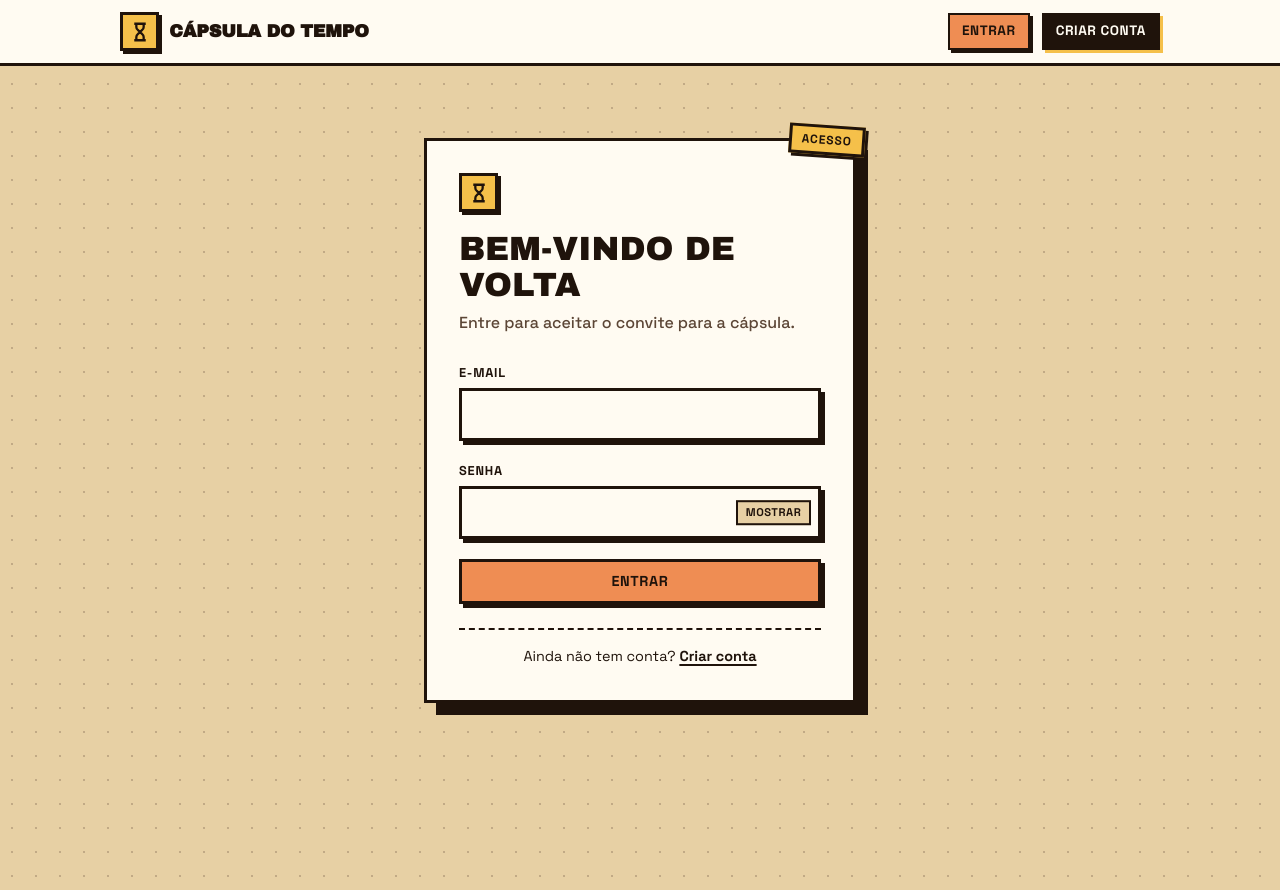
Test: ConvitePage (/convite/:token) › without a session › goes back to the invite after login and opens the capsule
The image size is (1280, 890).
Check: the heading "Bem-vindo de volta" is shown, box [459, 231, 735, 303]
Type "bruno@example.com" into the field labelled "E-mail" at (640,415), box [459, 388, 821, 441]
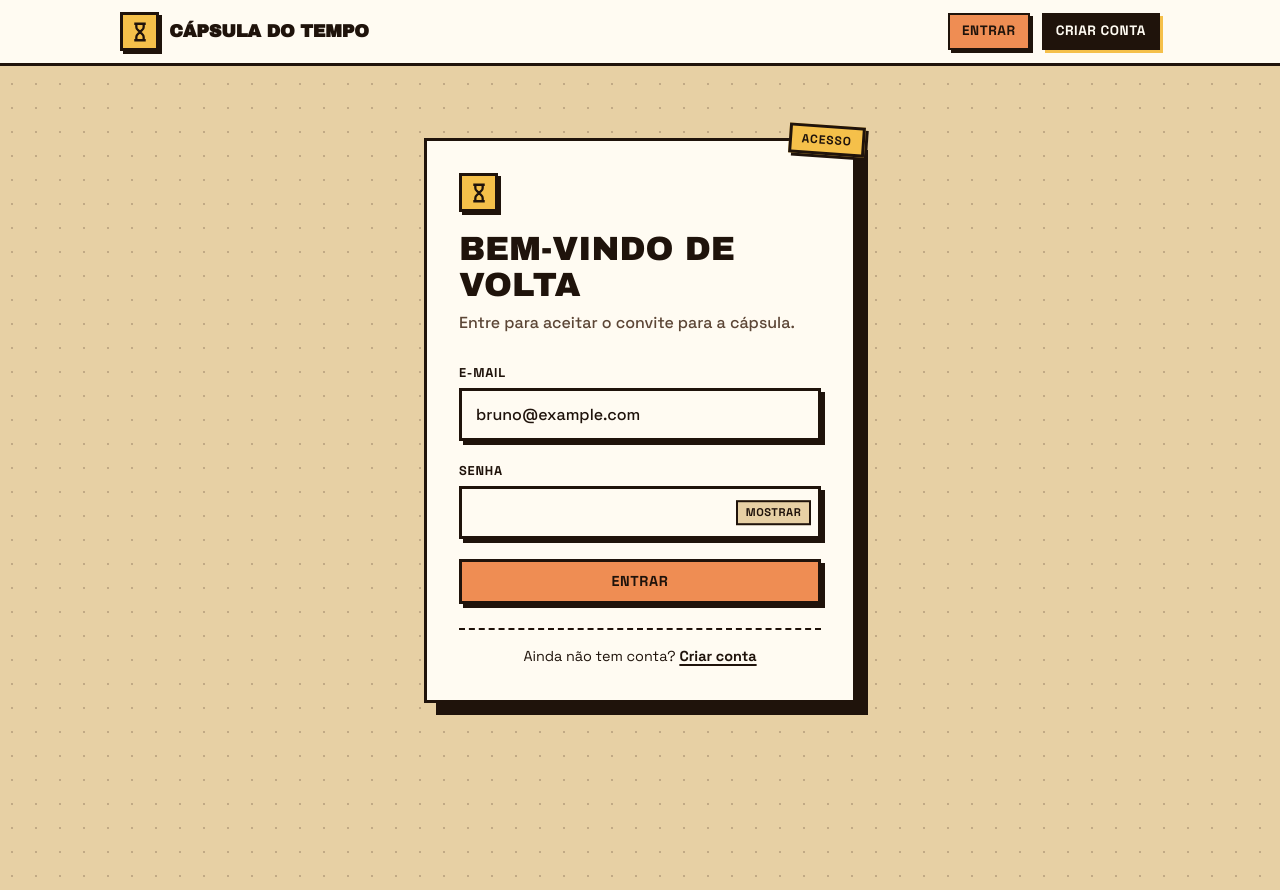
Type "segredo123" into the password field labelled "Senha" at (640,513), box [459, 486, 821, 539]
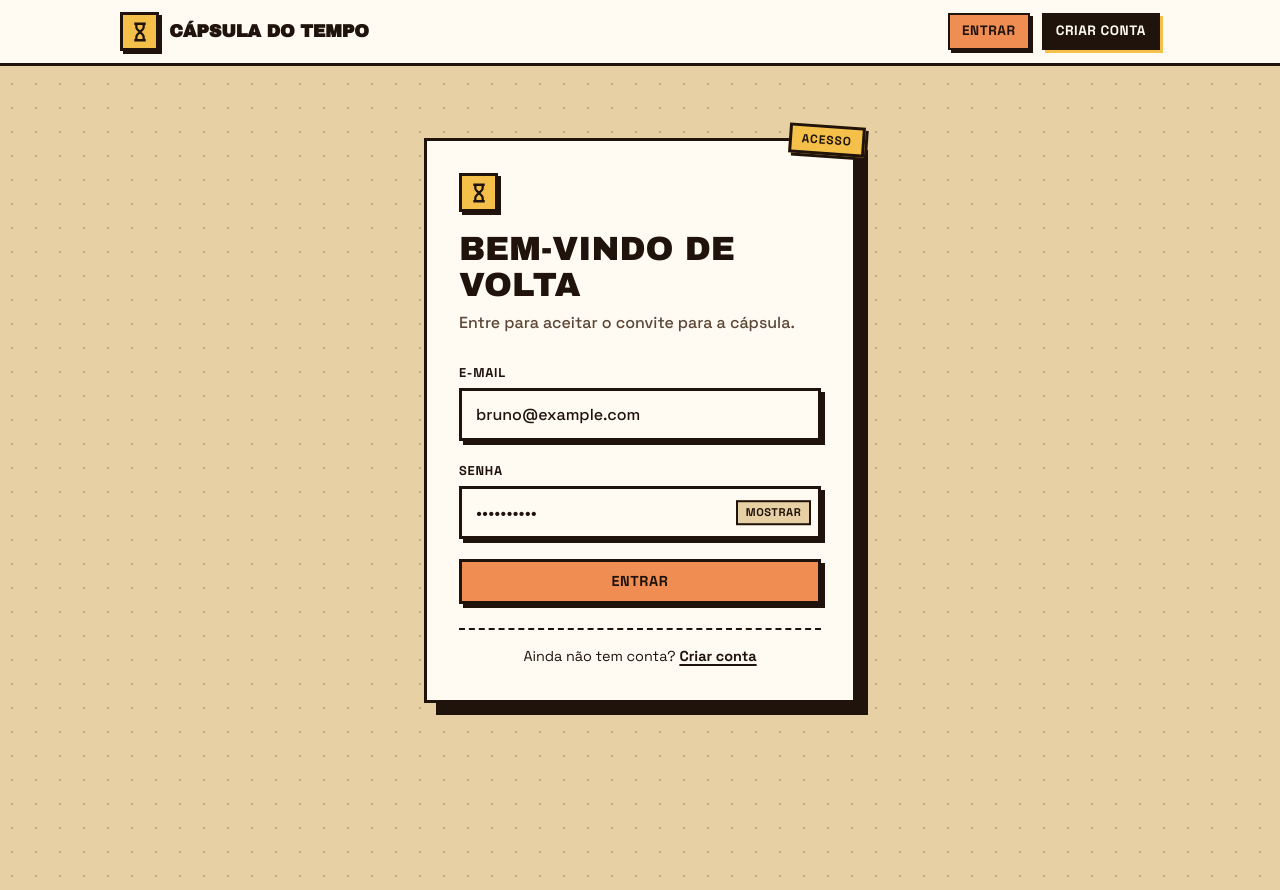
Click the button "Entrar" at (640,582), box [459, 559, 821, 604]
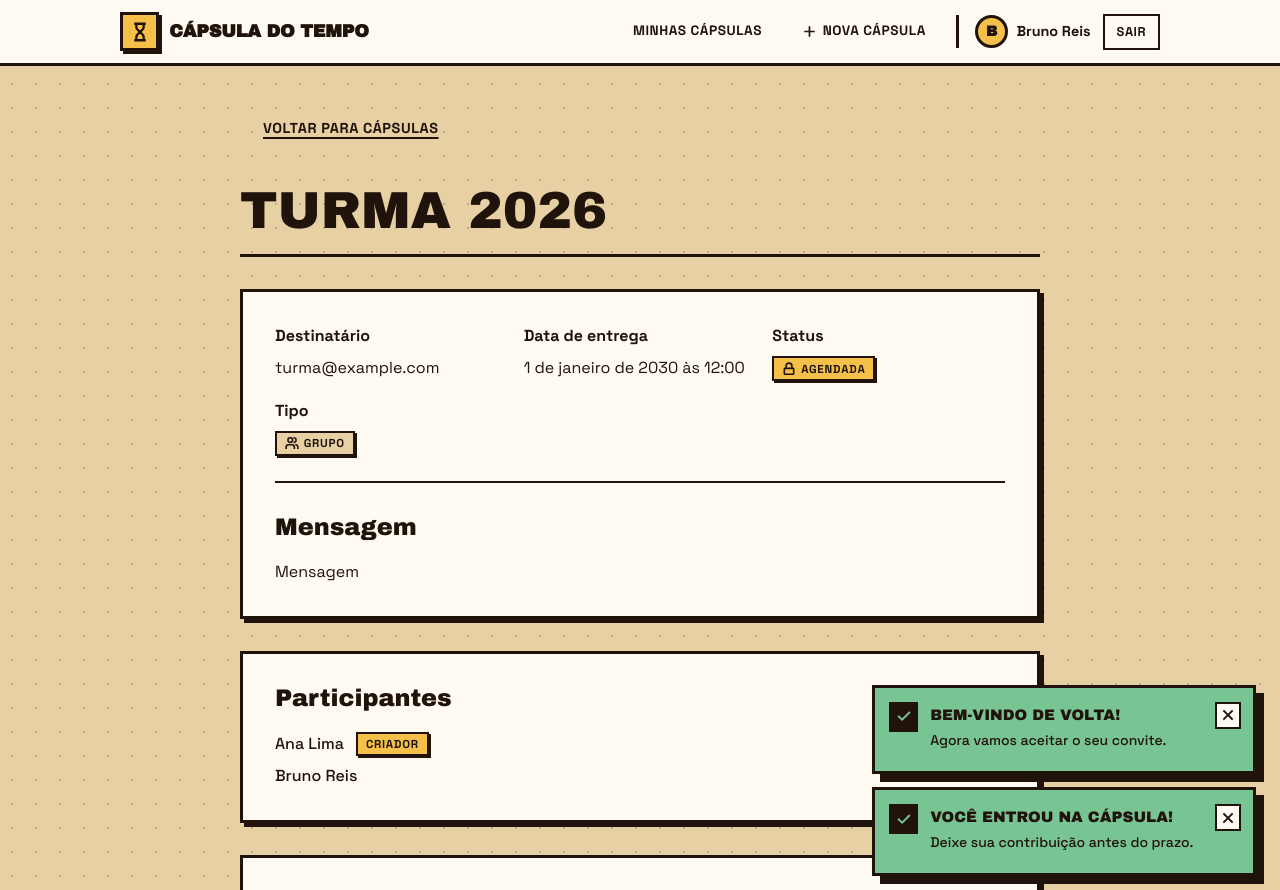
Check: the heading "Turma 2026" is shown, box [240, 184, 607, 238]
Check: the text "Agora vamos aceitar o seu convite." is shown, box [930, 729, 1203, 750]
